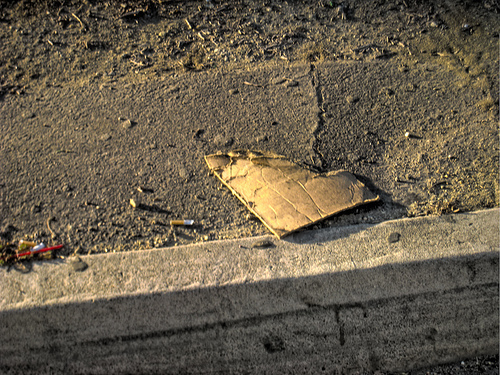litter: (202, 148, 381, 240), (19, 238, 49, 256), (170, 219, 195, 225)
